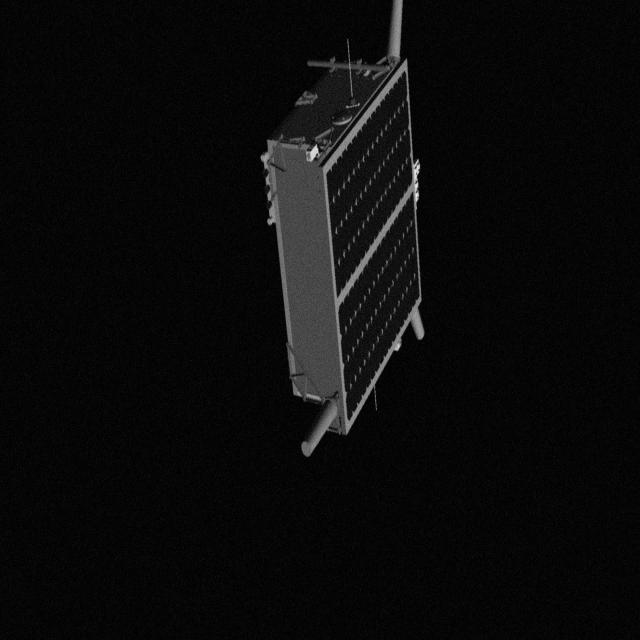medium_debris: (258, 0, 446, 478)
